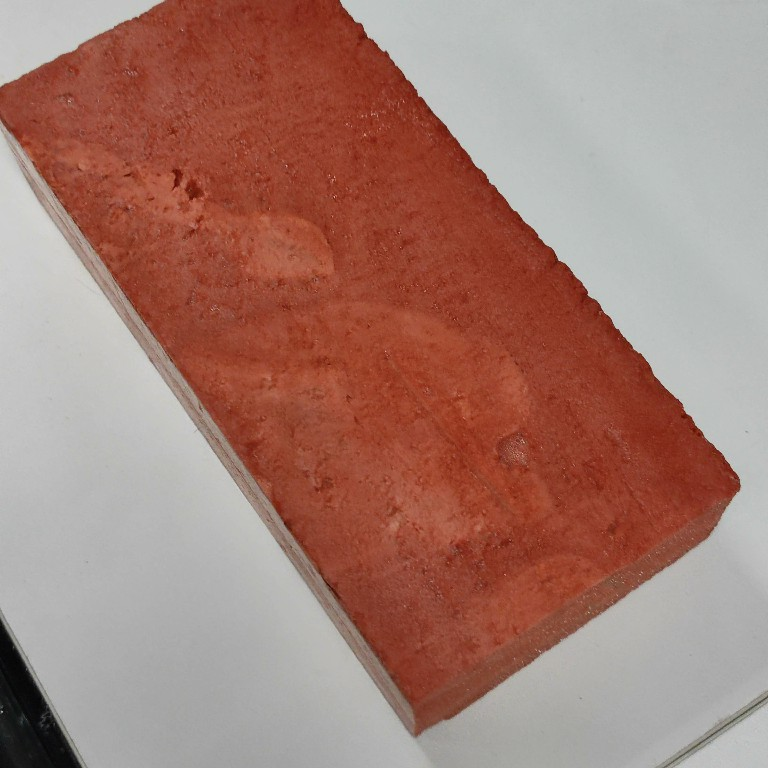brick: (1, 1, 742, 744)
